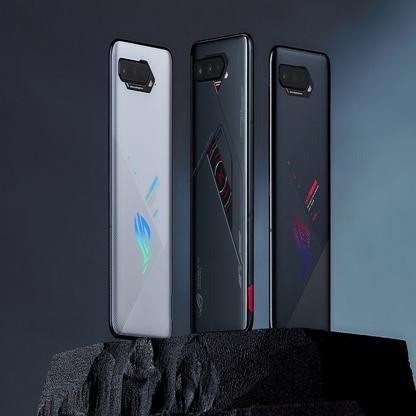not trash: (103, 37, 179, 334), (187, 34, 254, 334), (267, 44, 333, 326)
